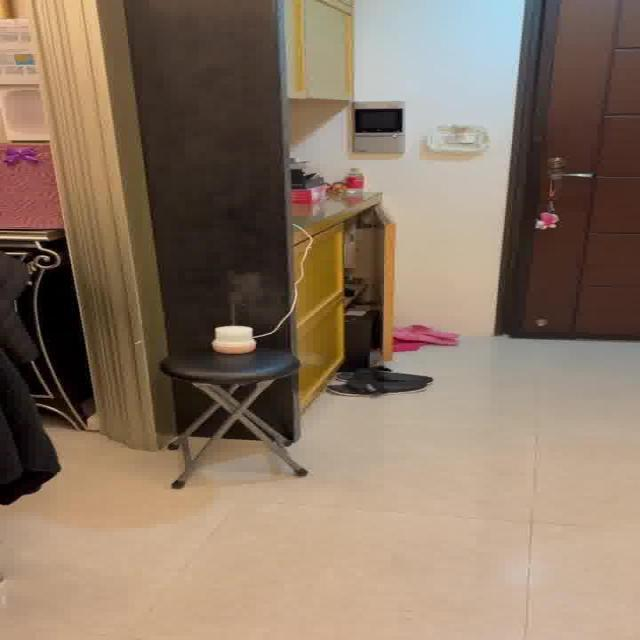fire: (213, 267, 275, 319)
